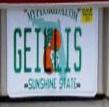E: (23, 27, 33, 74)
G: (12, 27, 23, 73)
I: (63, 27, 72, 73), (34, 26, 42, 73)
S: (73, 26, 83, 73)
